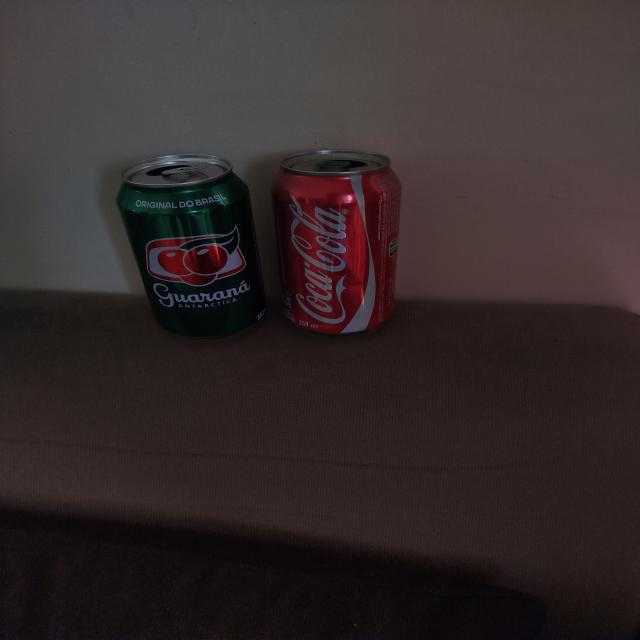Coca Cola: (270, 149, 400, 335)
Guarana: (115, 154, 269, 338)
